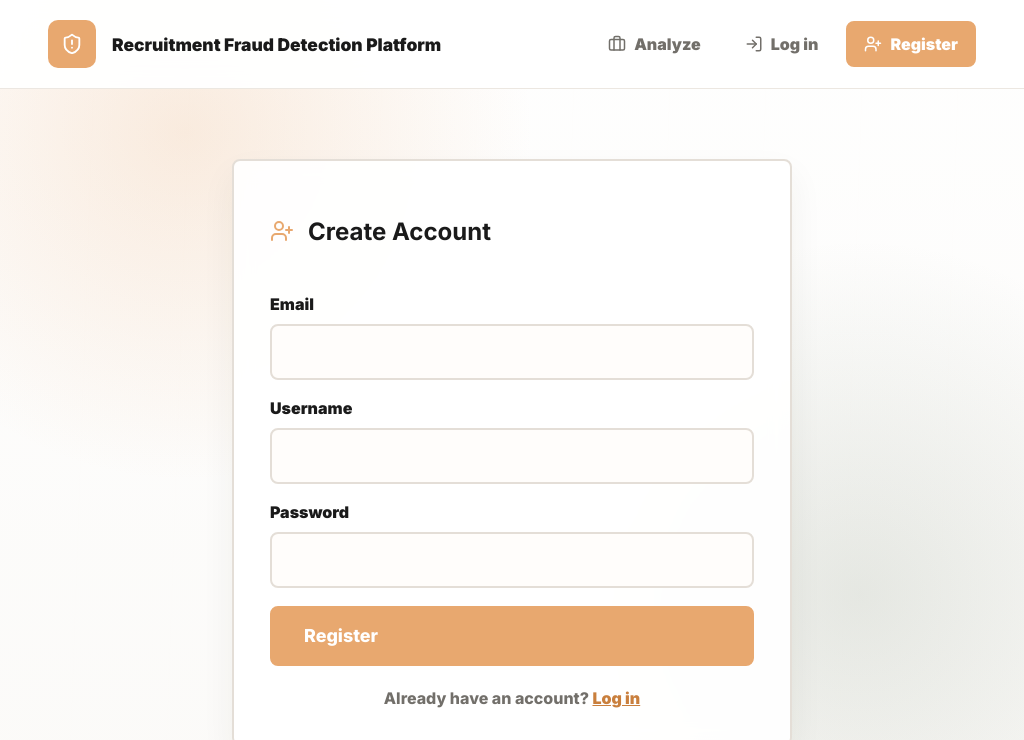
Scenario: registers a user with the expected payload
The width and height of the screenshot is (1024, 740).
In the field labelled "Email": (512, 352) left=270, top=324, right=754, bottom=380, type "user@example.com"
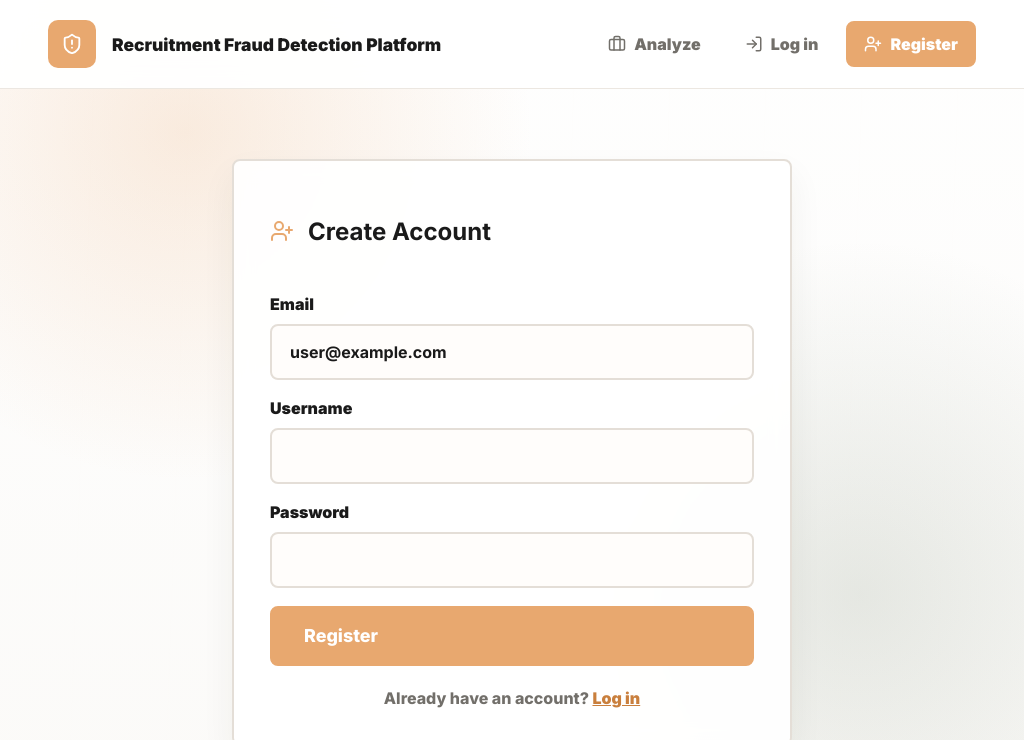
In the field labelled "Username": (512, 456) left=270, top=428, right=754, bottom=484, type "unit-user"
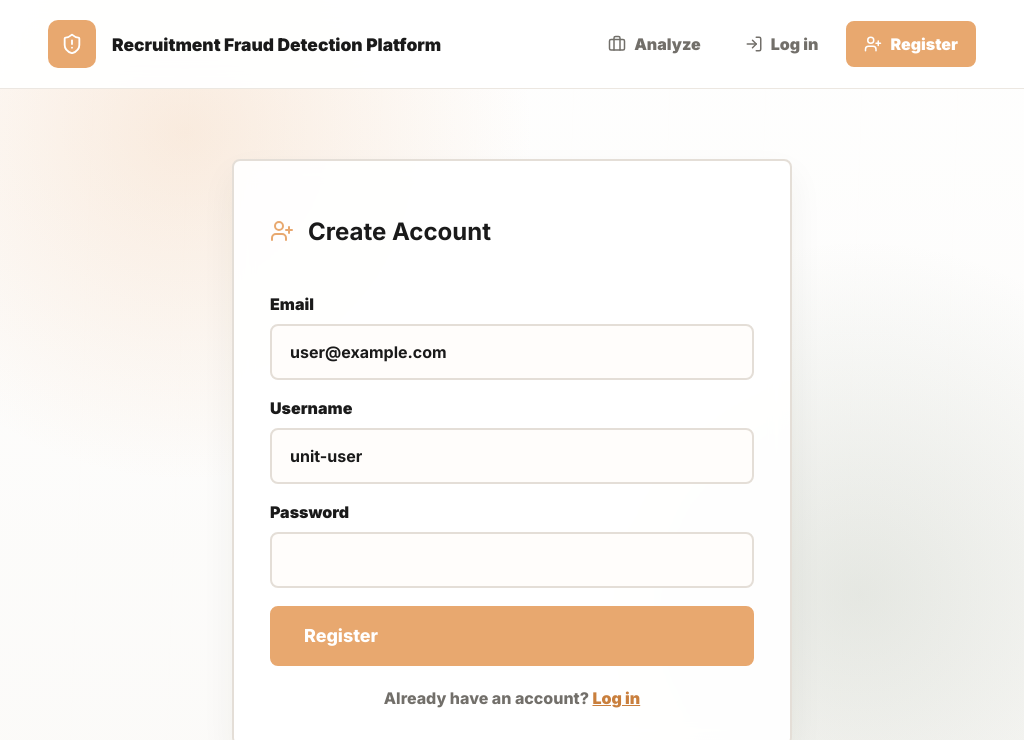
In the password field labelled "Password": (512, 560) left=270, top=532, right=754, bottom=588, type "Secure123"
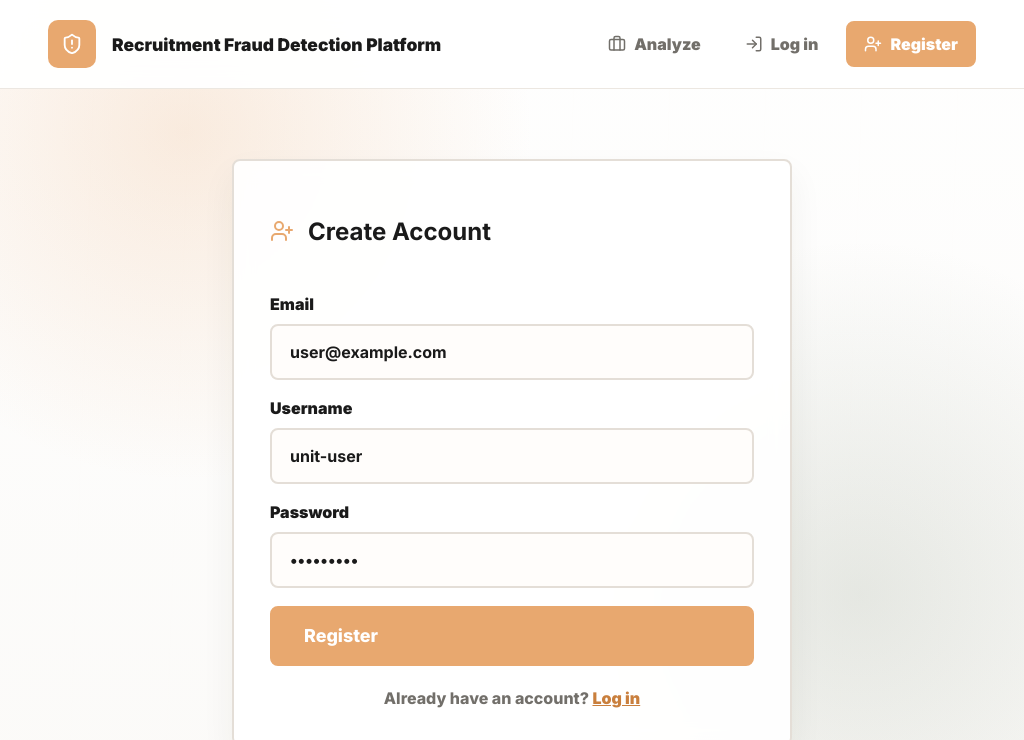
Click the button "Register": (341, 636) left=270, top=606, right=754, bottom=666
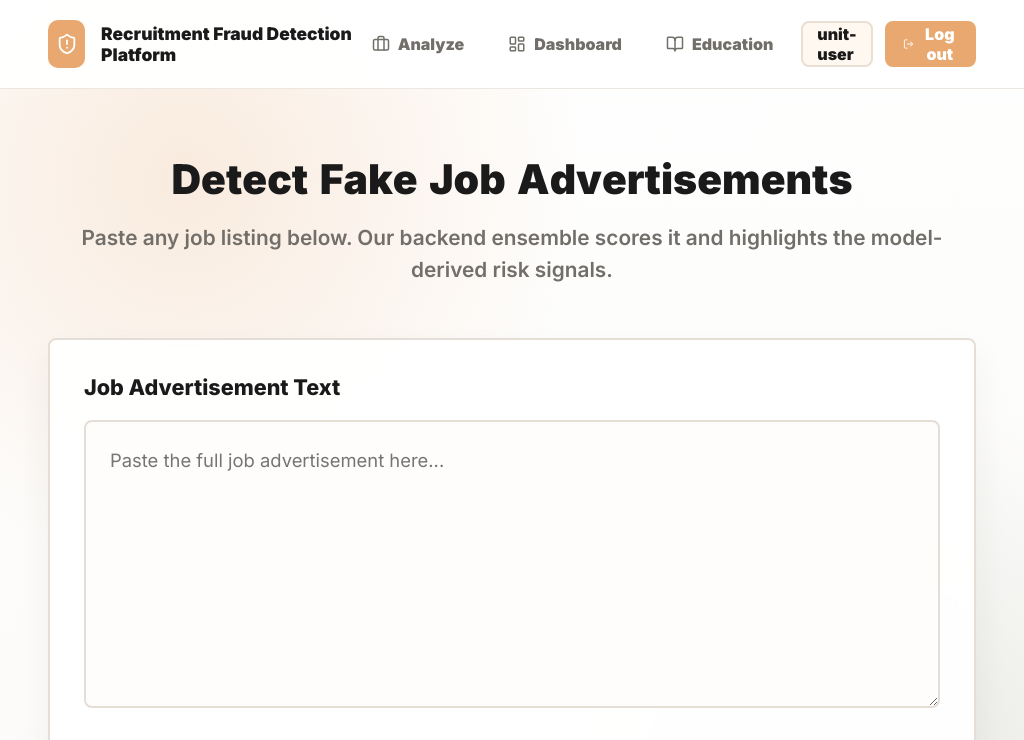
Expected: the heading named "Detect Fake Job Advertisements" is shown, left=172, top=159, right=853, bottom=200
